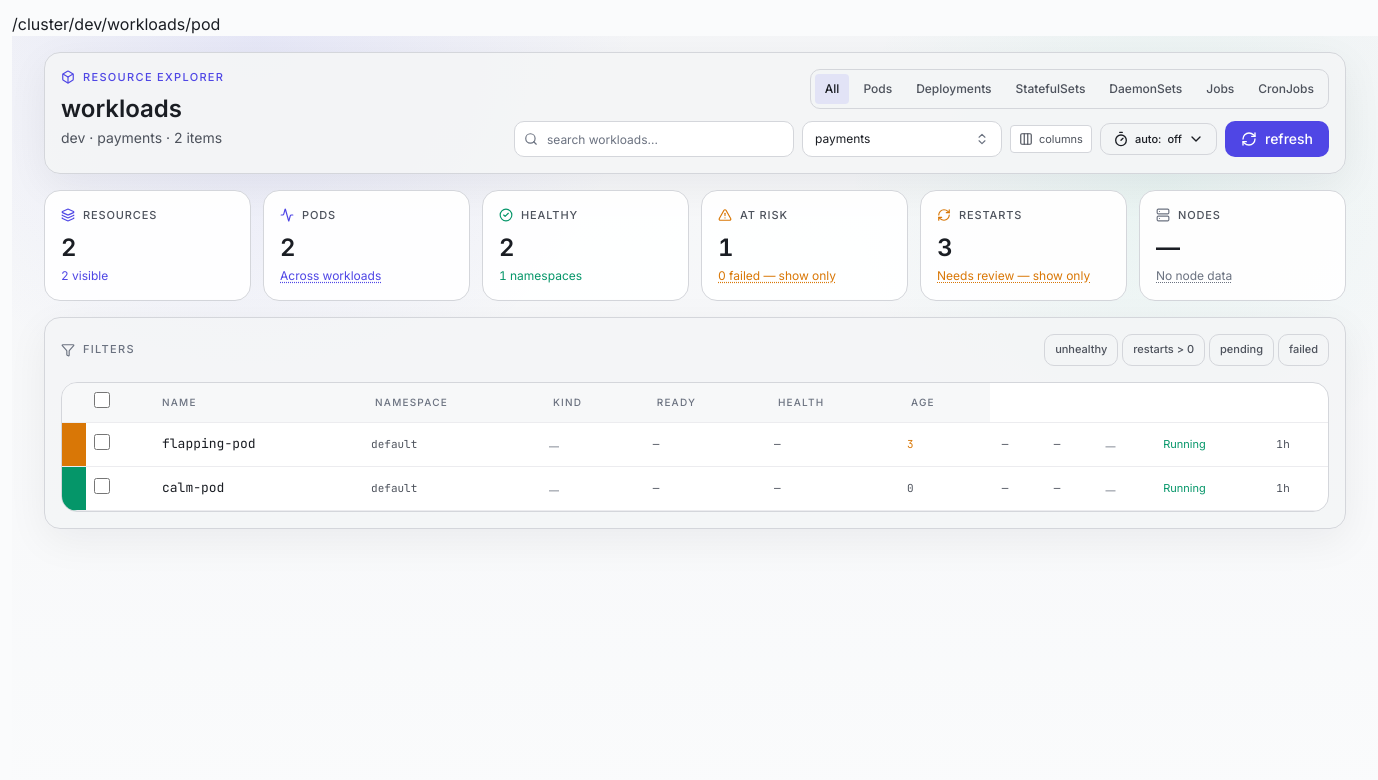
Test: WorkloadsView actionable stat cards › clears filters when the Resources card is clicked after a filter is applied
Expected: the text "calm-pod" is shown, [162, 479, 224, 496]
What coordinates should you click on to do the following:
click the button "Restarts 3 Needs review — show only"
I would click on:
 (1024, 245)
Its box is [920, 190, 1127, 300].
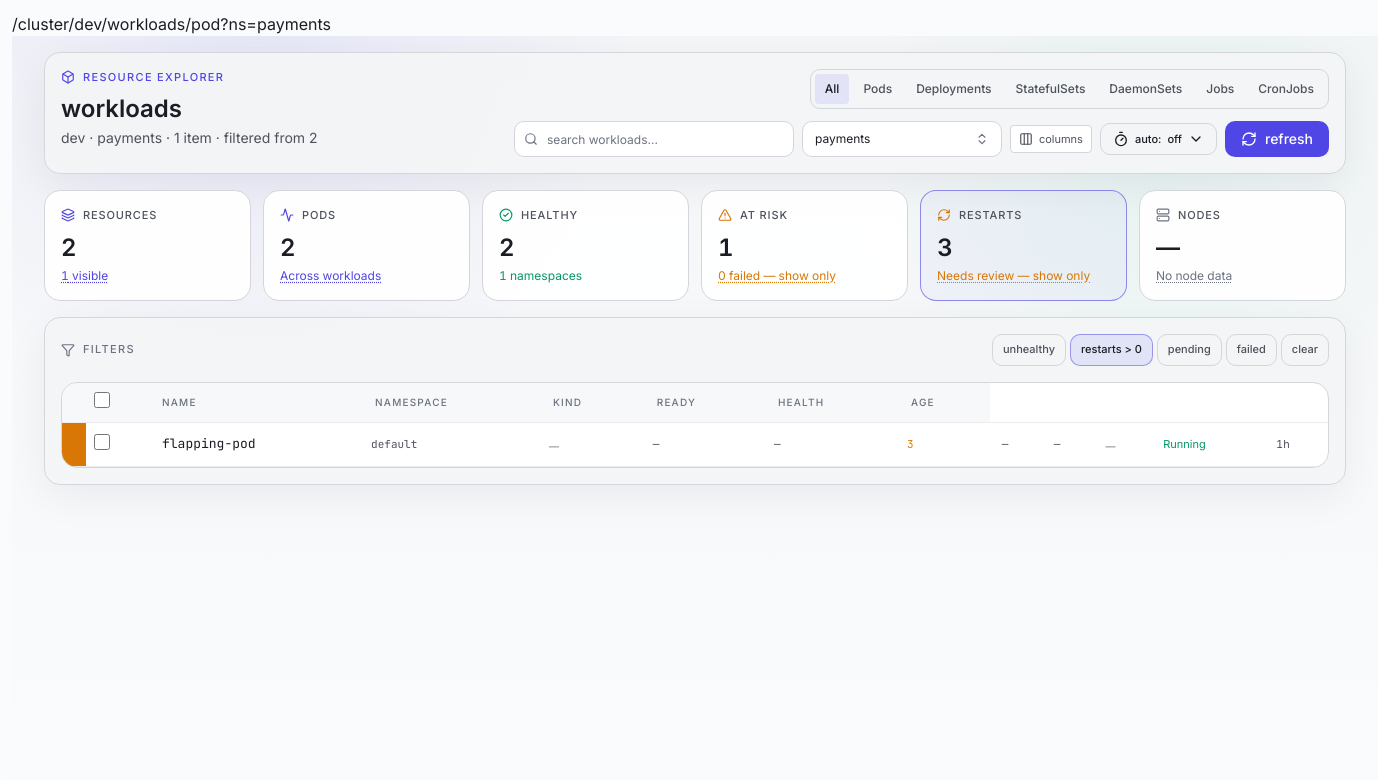
Expected: the text "calm-pod" is gone
What coordinates should you click on to do the following:
click the button "Resources 2 1 visible"
I would click on:
 (148, 245)
Its box is [44, 190, 251, 300].
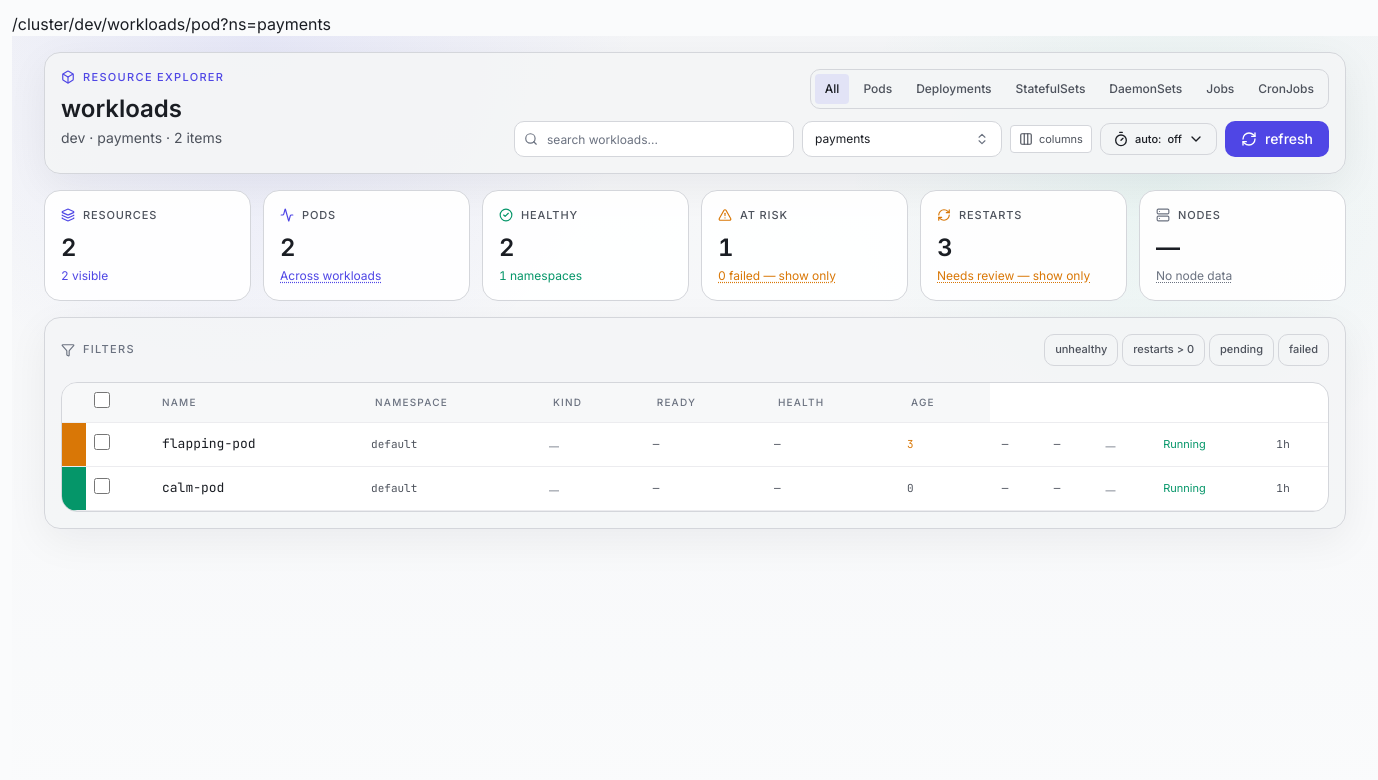
Expected: the text "flapping-pod" is shown, [162, 435, 256, 452]
Expected: the text "calm-pod" is shown, [162, 479, 224, 496]
